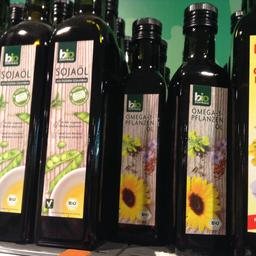oil: (34, 0, 116, 247), (168, 4, 230, 252), (0, 0, 51, 245), (116, 17, 170, 247)
